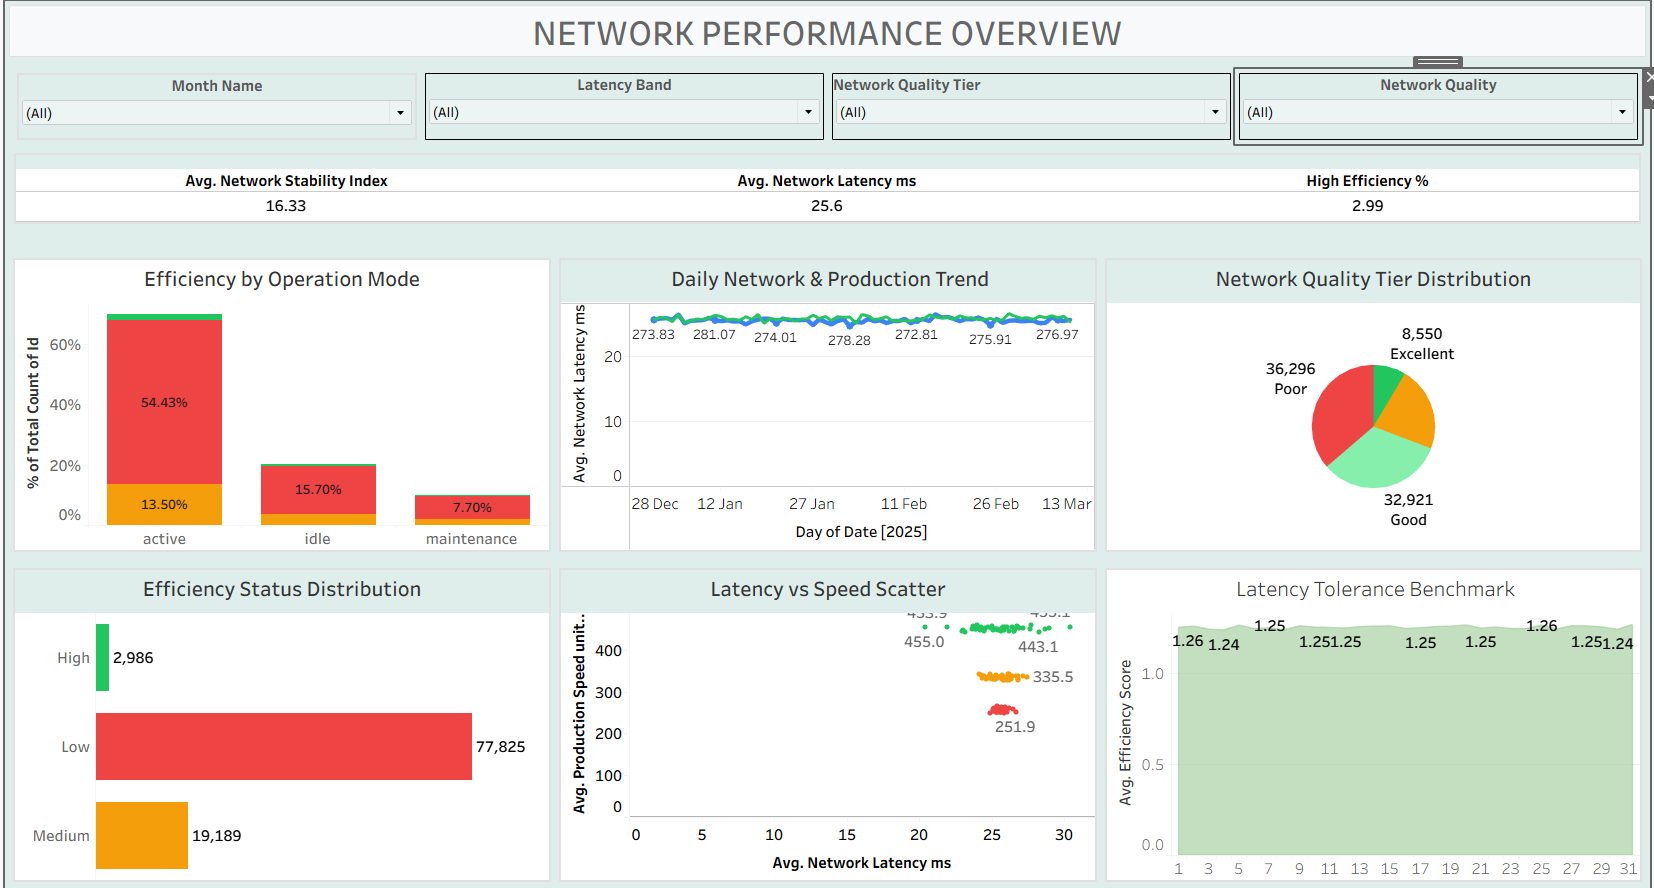

What the dashboard file says about the page in this screenshot:
{"tool":"tableau","page":{"name":"NETWORK PERFORMANCE OVERVIEW","canvas":[1000,1000],"units":"permille","ordinal":0},"visuals":[{"type":"text","box":[9.5,17.4,980.9,65.2]},{"type":"filter","title":"Dashbpard_1_KIP","param":"[federated.05kspbk1nwvd9m18ohf010eik7mn].[none:Month_Name:nk]","box":[14.3,91.2,243.3,81.4]},{"type":"filter","title":"Dashbpard_1_KIP","param":"[federated.05kspbk1nwvd9m18ohf010eik7mn].[none:Calculation_2494994251104329729:n","box":[257.6,91.2,242.7,81.4]},{"type":"filter","title":"Dashbpard_1_KIP","param":"[federated.05kspbk1nwvd9m18ohf010eik7mn].[none:Calculation_2494994251318394892:n","box":[500.3,91.2,242.7,81.4]},{"type":"filter","title":"Dashbpard_1_KIP","param":"[federated.05kspbk1nwvd9m18ohf010eik7mn].[none:network_quality:nk]","box":[743,91.2,242.7,81.4]},{"type":"worksheet","title":"Dashbpard_1_KIP","mark":"Automatic","box":[11.9,177,976.1,88]},{"type":"worksheet","title":"06 - Efficiency by Operation Mode","mark":"Automatic","rows":["Id"],"cols":["Operation_Mode"],"box":[11.9,292.1,325.6,327.9]},{"type":"worksheet","title":"07 - Daily Network & Production Trend","mark":"Automatic","rows":["Network_Latency_ms","Production_Speed_units_per_hr"],"cols":["Date"],"box":[337.5,292.1,325.6,327.9]},{"type":"worksheet","title":"02 - Network Quality Tiers","mark":"Pie","box":[663.1,292.1,325,327.9]},{"type":"worksheet","title":"\"01 - Efficiency Distribution","mark":"Automatic","rows":["Efficiency_Status"],"cols":["Network_Stability_Index"],"box":[11.9,628.7,325.6,349.6]},{"type":"worksheet","title":"03 - Latency vs Speed Scatter","mark":"Circle","rows":["Production_Speed_units_per_hr"],"cols":["Network_Latency_ms"],"box":[337.5,628.7,325.6,349.6]},{"type":"worksheet","title":"09 - Latency Tolerance Benchmark","mark":"Area","rows":["Calculation_2494994251703922701"],"cols":["Date"],"box":[663.1,628.7,325,349.6]}]}

Visuals, with their boxes on the dashboard's canvas, which has no fixed pixel size, in thousandths of its width and height (x1, y1, x2, y2). These are canvas units, not pixel positions in the 1654x888 screenshot, which may show the page scaled, cropped or inside an application window:
text: bbox=[10, 17, 990, 83]
"Dashbpard_1_KIP" filter: bbox=[14, 91, 258, 173]
"Dashbpard_1_KIP" filter: bbox=[258, 91, 500, 173]
"Dashbpard_1_KIP" filter: bbox=[500, 91, 743, 173]
"Dashbpard_1_KIP" filter: bbox=[743, 91, 986, 173]
"Dashbpard_1_KIP" worksheet: bbox=[12, 177, 988, 265]
"06 - Efficiency by Operation Mode" worksheet: bbox=[12, 292, 338, 620]
"07 - Daily Network & Production Trend" worksheet: bbox=[338, 292, 663, 620]
"02 - Network Quality Tiers" worksheet (Pie marks): bbox=[663, 292, 988, 620]
""01 - Efficiency Distribution" worksheet: bbox=[12, 629, 338, 978]
"03 - Latency vs Speed Scatter" worksheet (Circle marks): bbox=[338, 629, 663, 978]
"09 - Latency Tolerance Benchmark" worksheet (Area marks): bbox=[663, 629, 988, 978]
